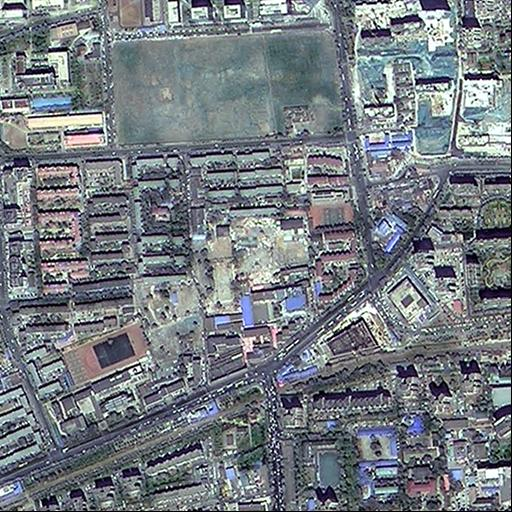school: (48, 320, 151, 452), (300, 431, 351, 495), (308, 189, 355, 229)
